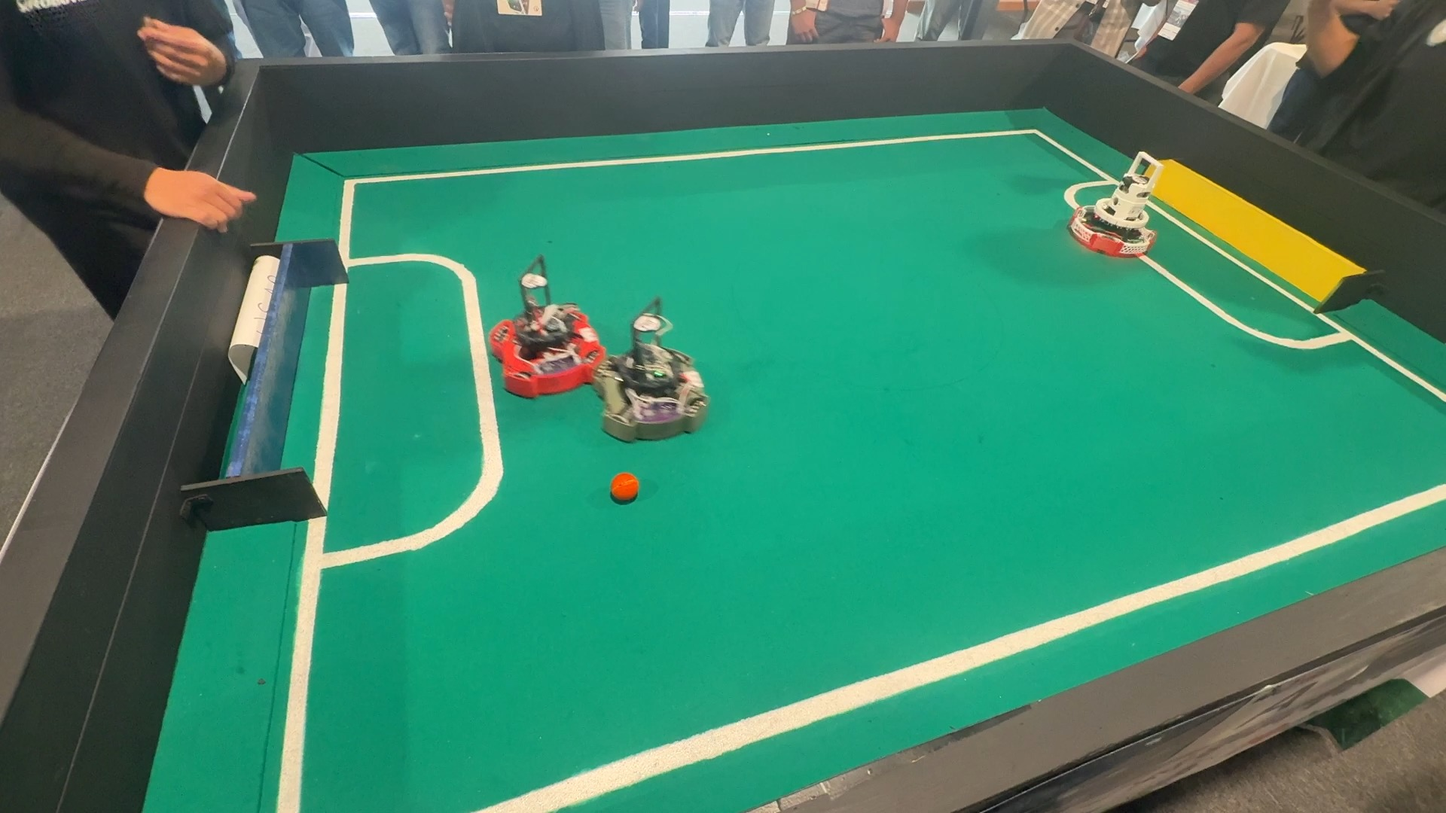Robot: (595, 292, 714, 455), (1055, 146, 1190, 270), (481, 281, 605, 408)
pelota: (606, 473, 647, 509)
